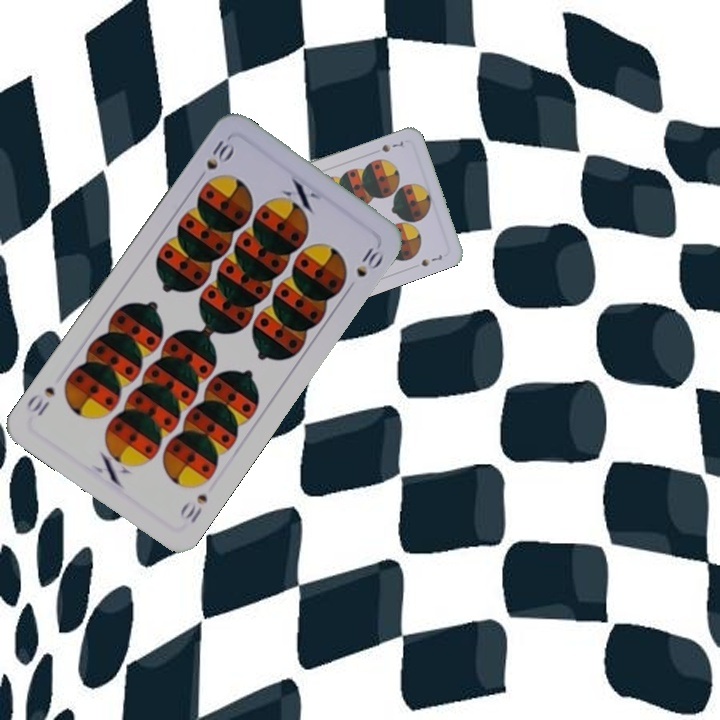S10: (202, 136, 237, 173), (176, 490, 211, 527)
S7: (378, 137, 406, 155)
